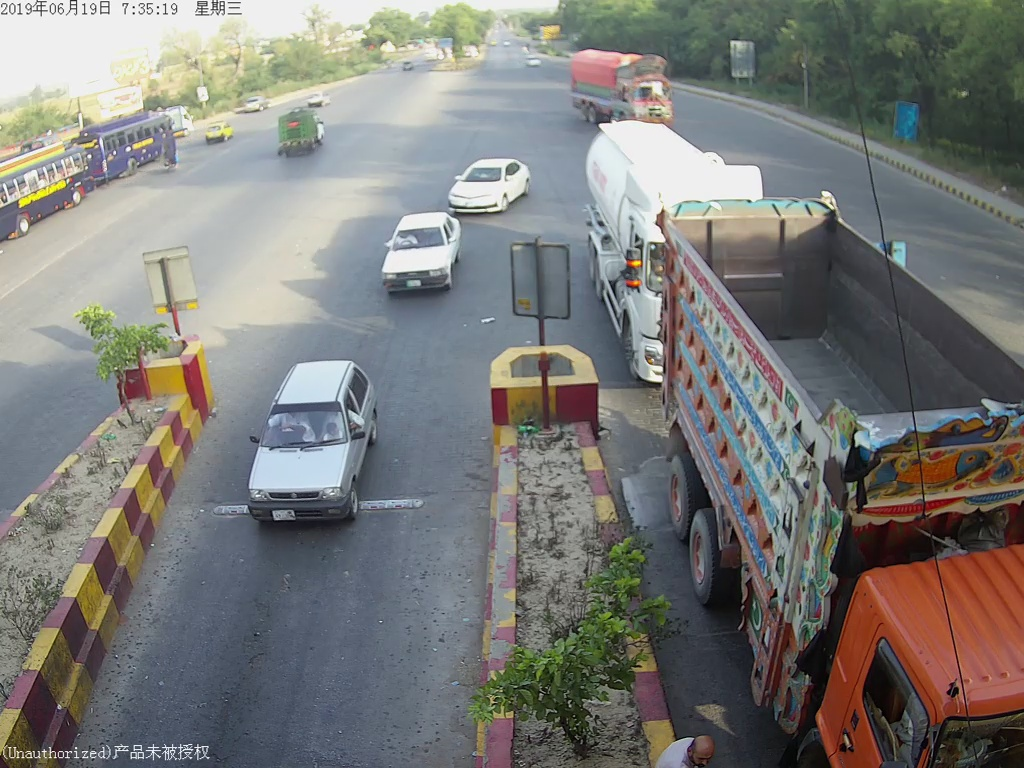Cat-1: (244, 363, 375, 530), (376, 212, 461, 291), (446, 154, 529, 220)
